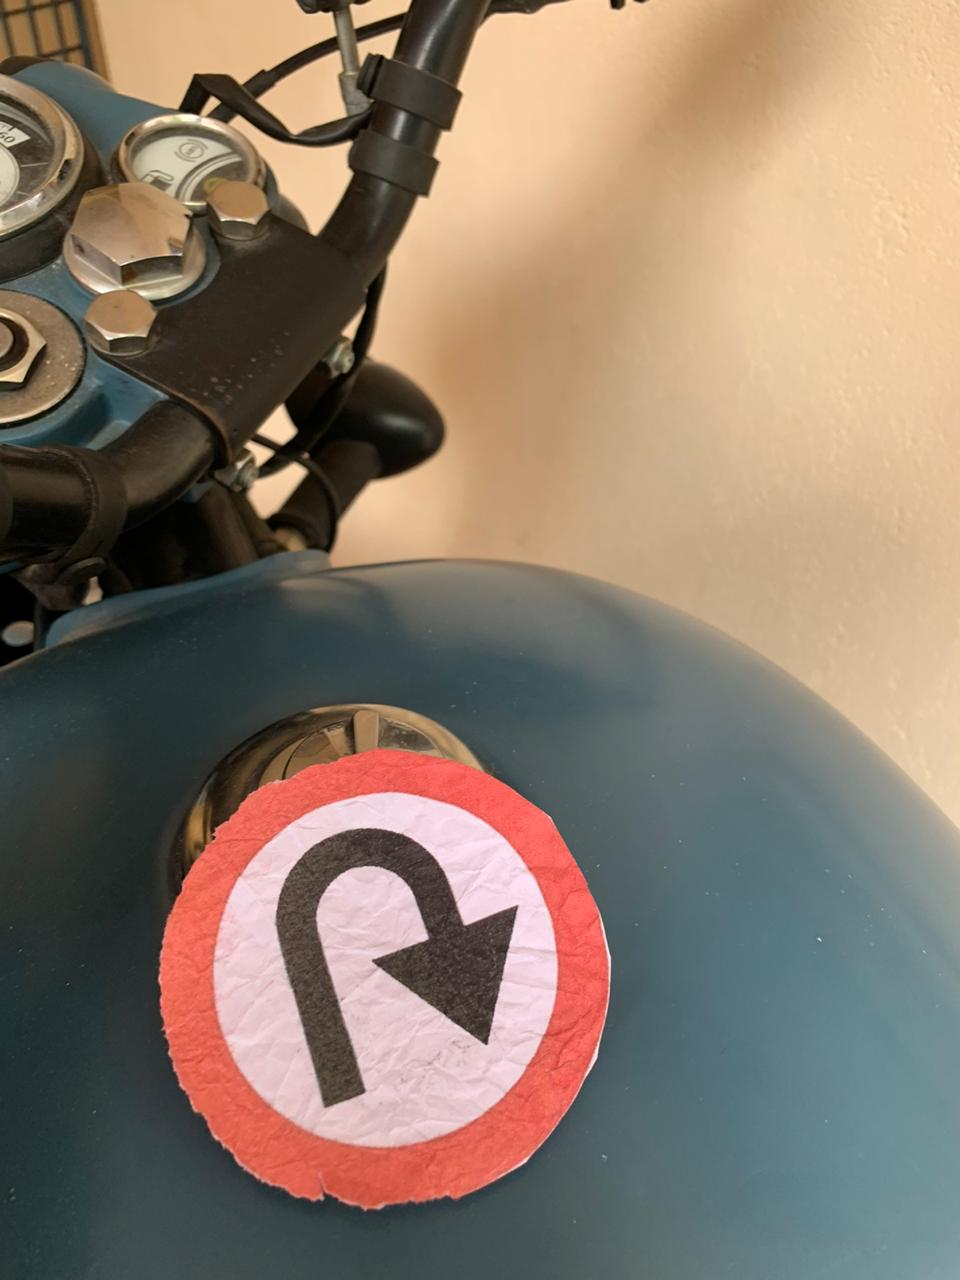U-TURN: (141, 696, 668, 1195)
